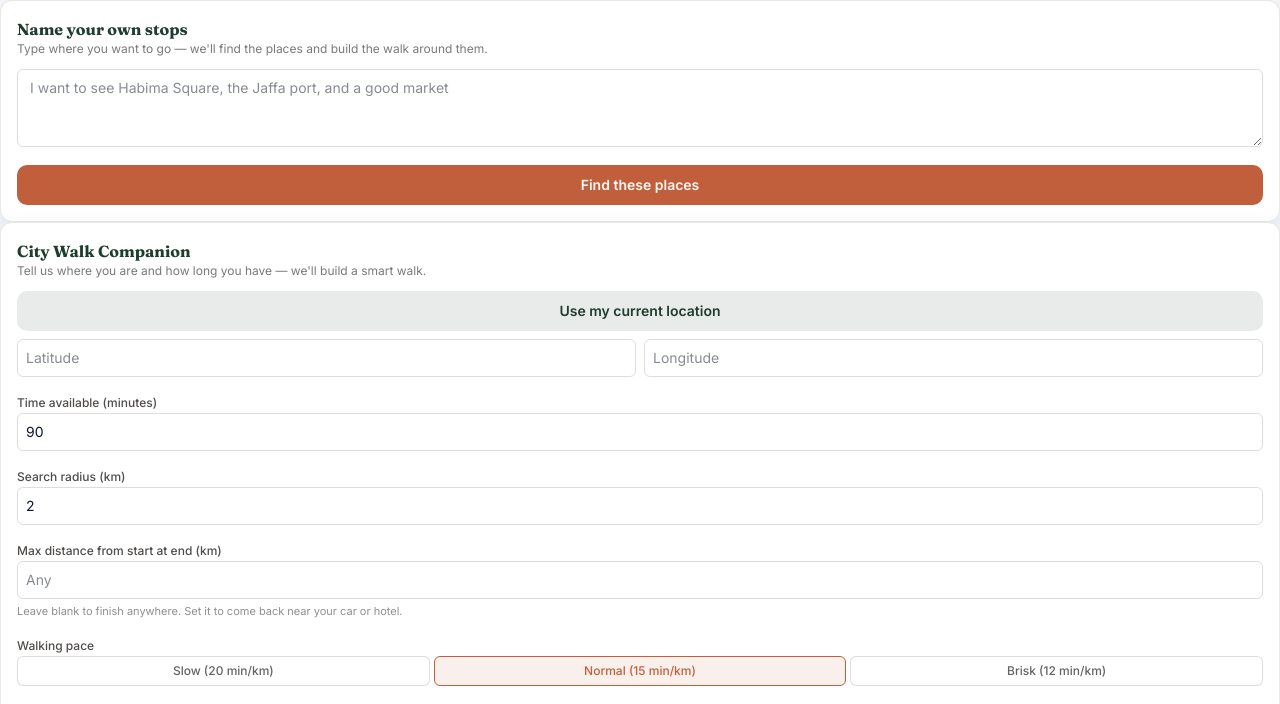
a finish distance stated in the prompt › fills the max-distance field from a distance the prompt stated
This screenshot has width=1280, height=704.
Replace the text in the text box with placeholder "I want to see Habima Square, the Jaffa port, and a good market" with "finish within 1km of here" at (640, 108), box [17,69,1263,147]
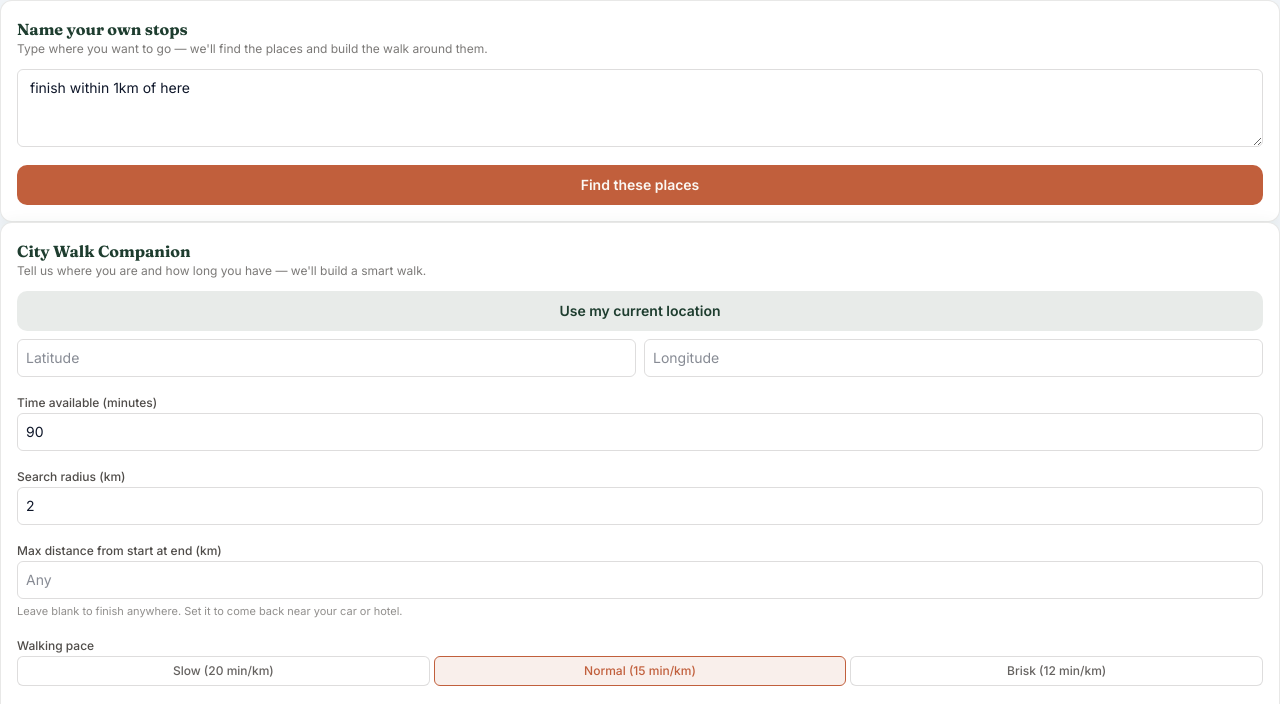
Click the button "Find these places" at (640, 185), box [17,165,1263,205]
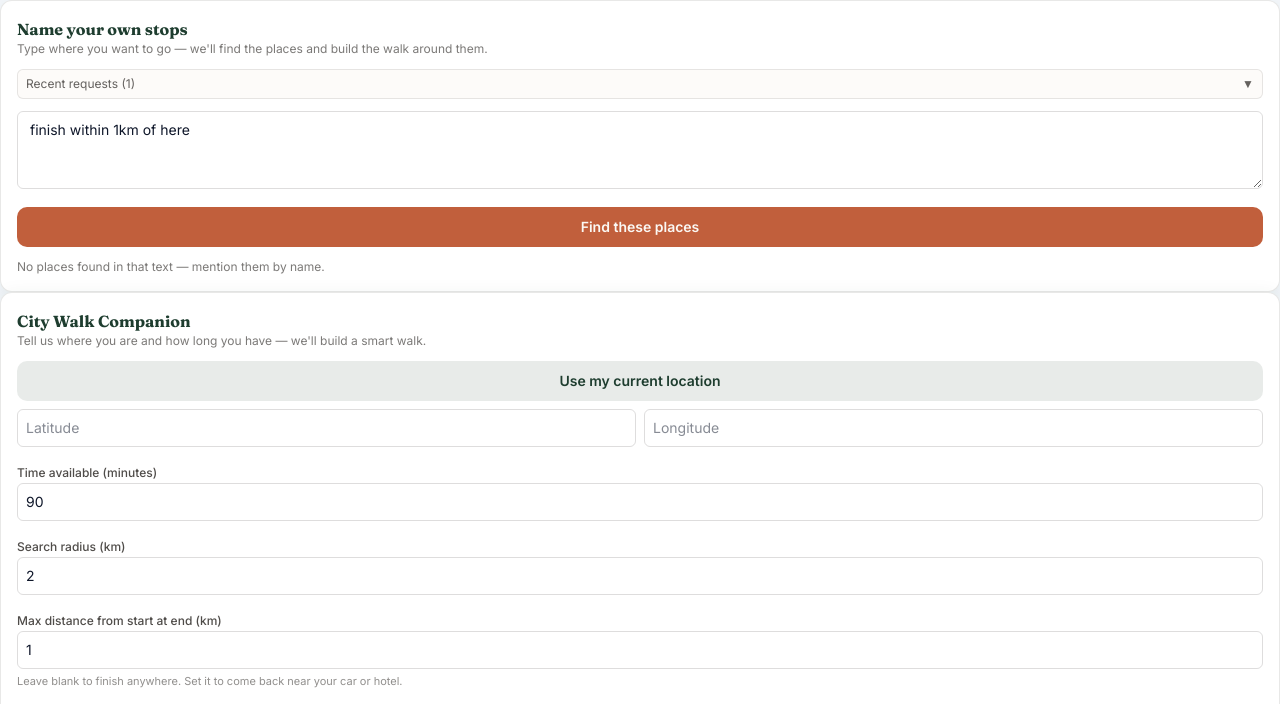
Expected: the number field with placeholder "Any" below "Max distance from start at end (km)" holds "1", [17,631,1263,669]
